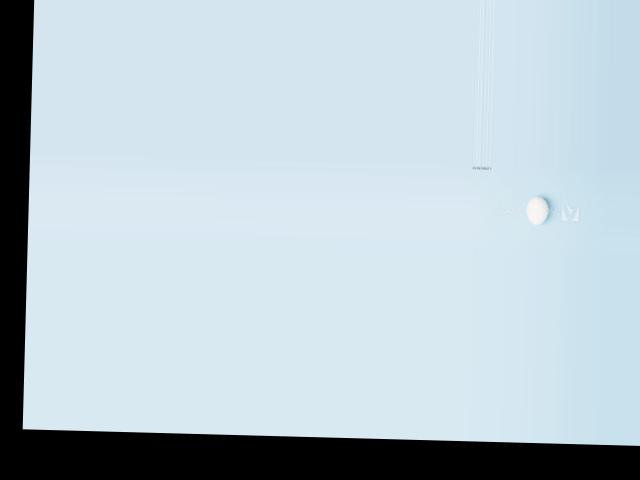egg: (526, 196, 548, 224)
